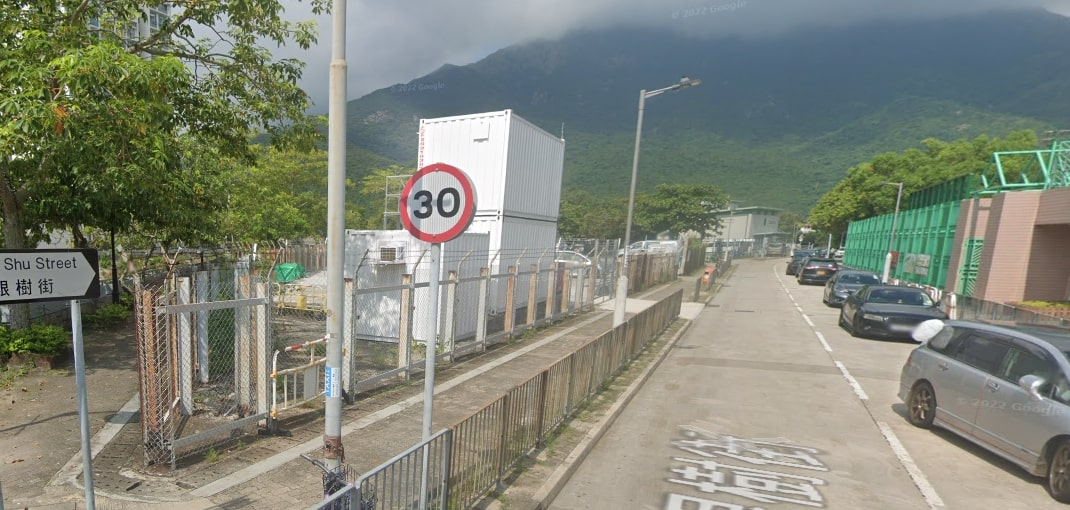Speed Limit: (398, 153, 477, 247)
